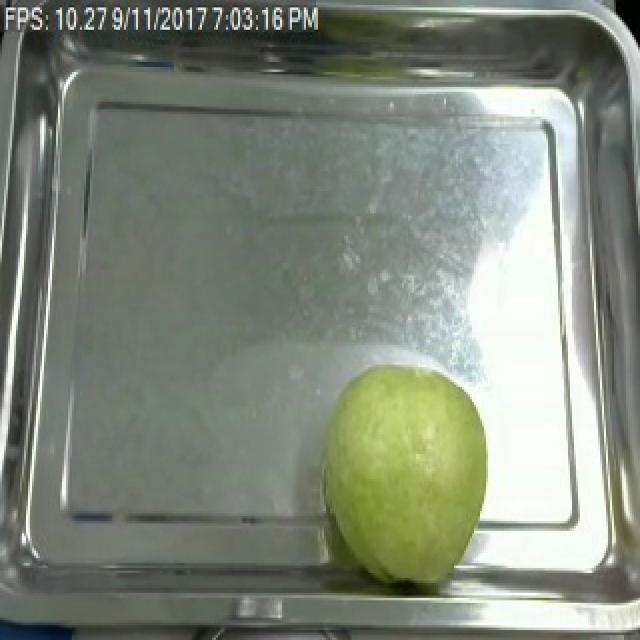Fruit: (304, 352, 502, 593)
